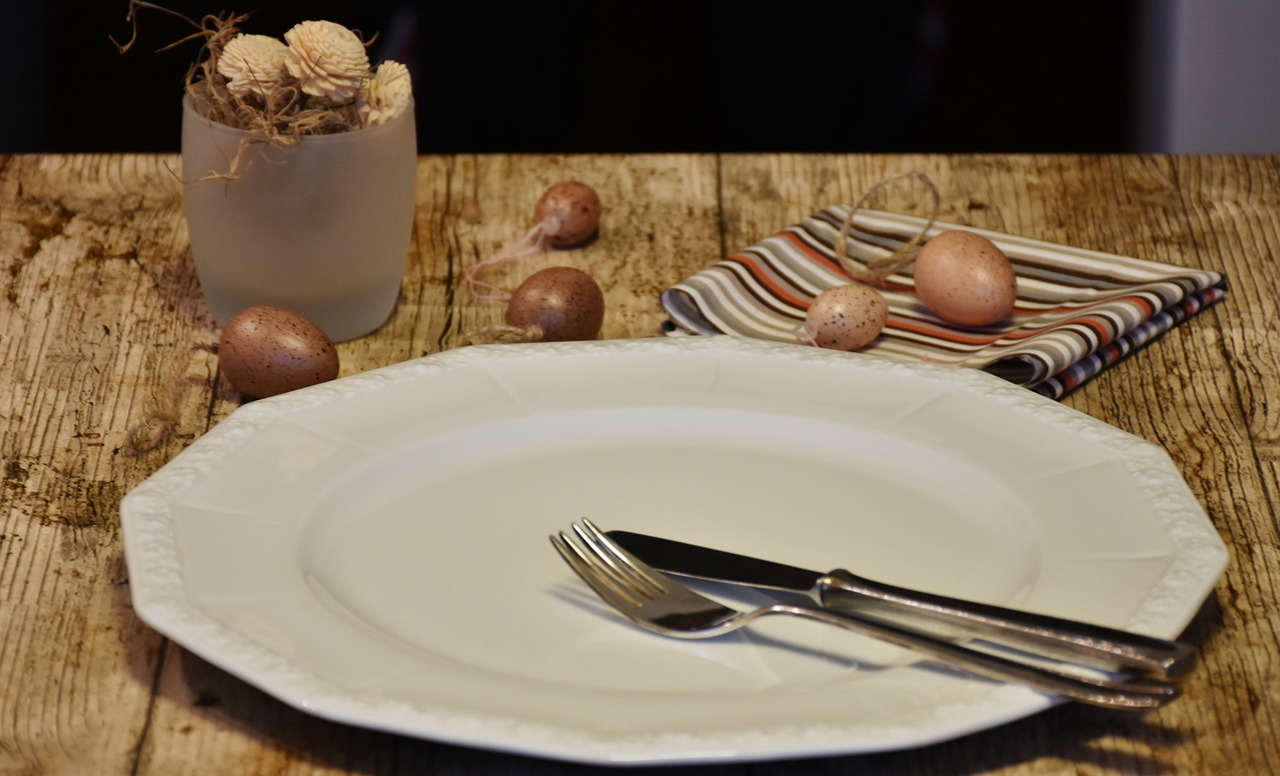knife: (601, 517, 1210, 700)
